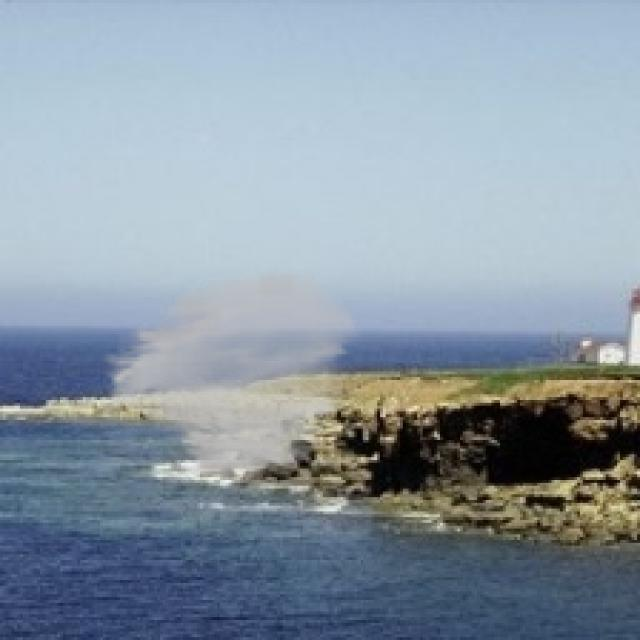smoke: (91, 268, 363, 483)
